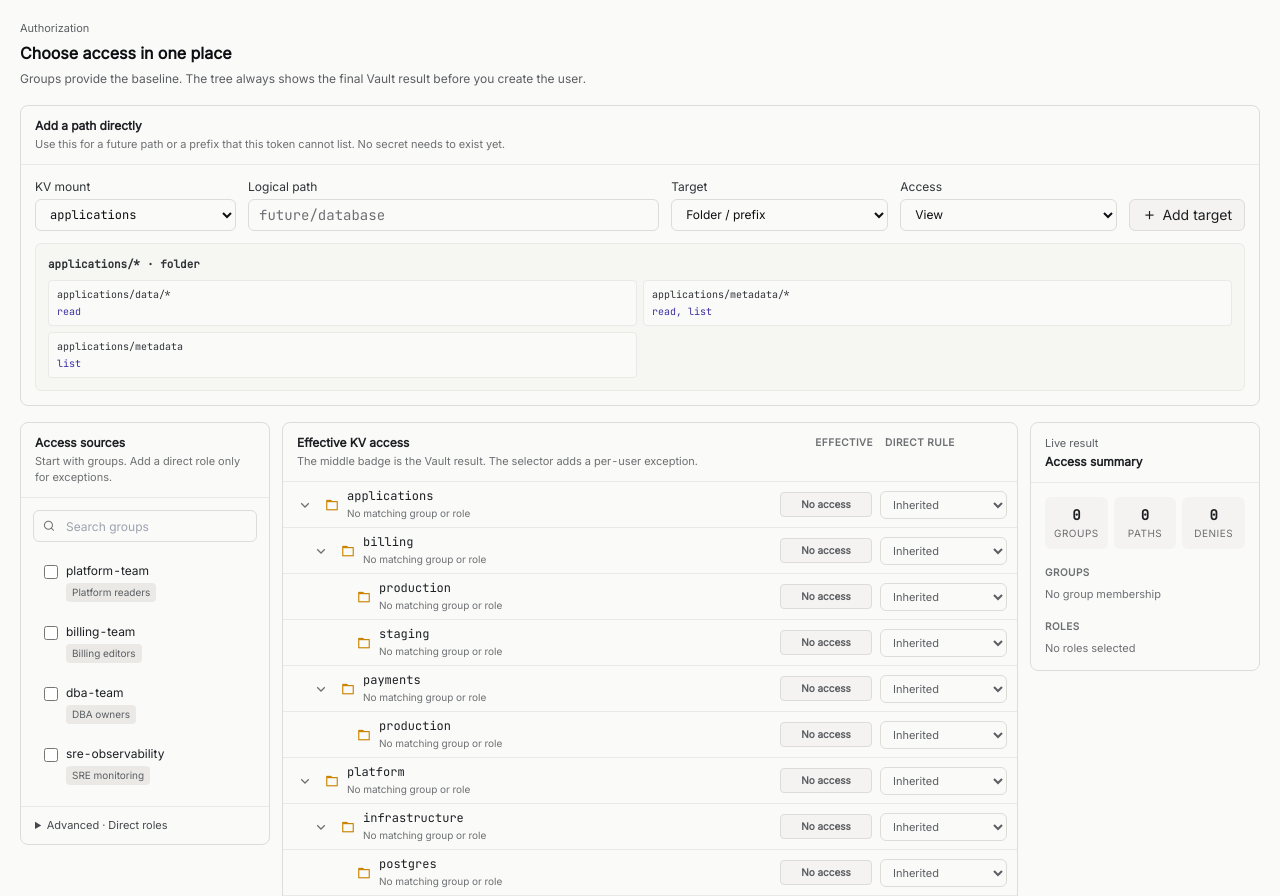
Test: AccessScreen › keeps explicit Deny separate and clearing it returns to Inherited
Select "Deny" in the dropdown named "Direct access for applications/billing" at [944, 550], box x1=880 y1=536 x2=1007 y2=564
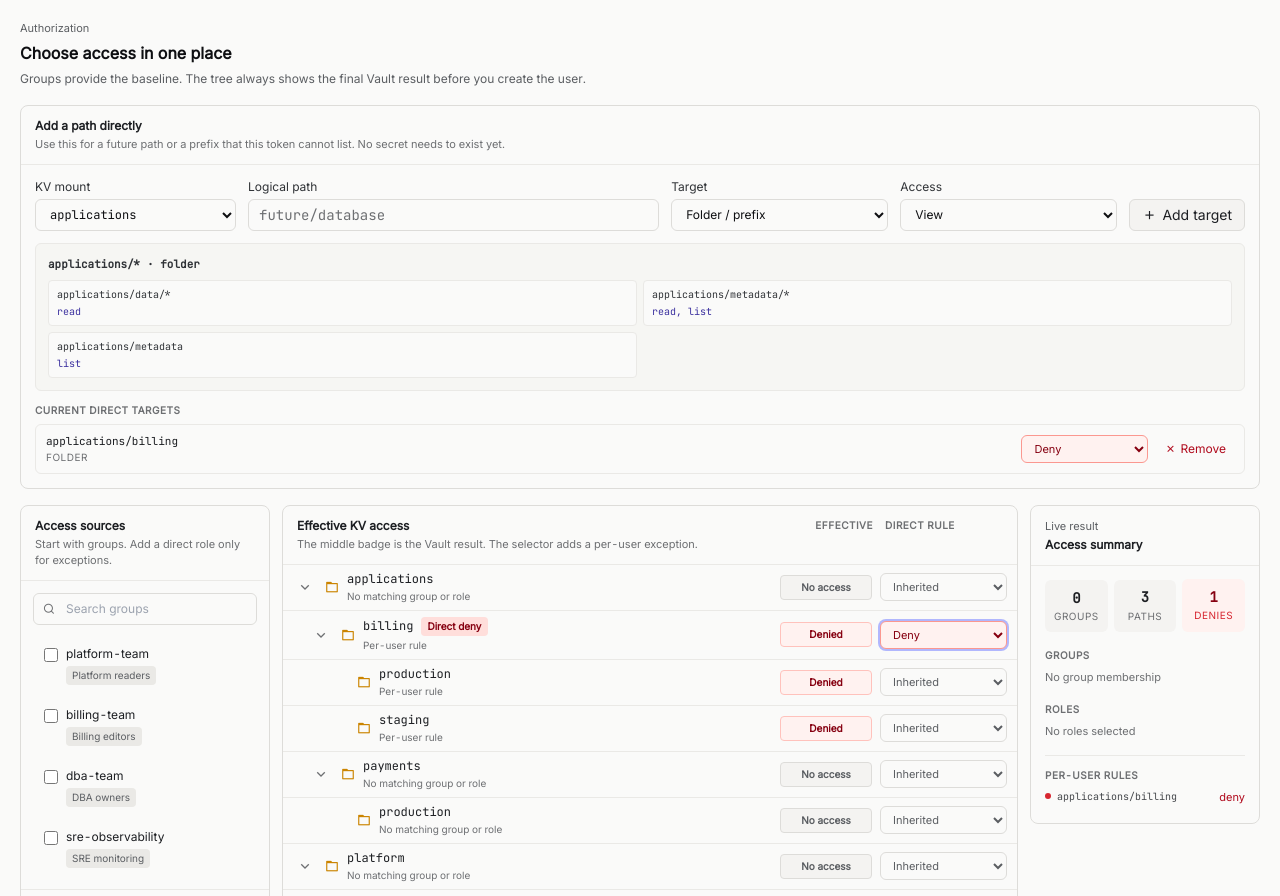
expect the text with test id "effective-level-applications:billing" reads "Denied": met, box x1=809 y1=628 x2=843 y2=640
expect the text "Direct deny" is shown: met, box x1=421 y1=616 x2=488 y2=636
Select "Inherited" in the dropdown named "Direct access for applications/billing" in the row of "Direct deny" at [944, 634], box x1=880 y1=620 x2=1007 y2=648
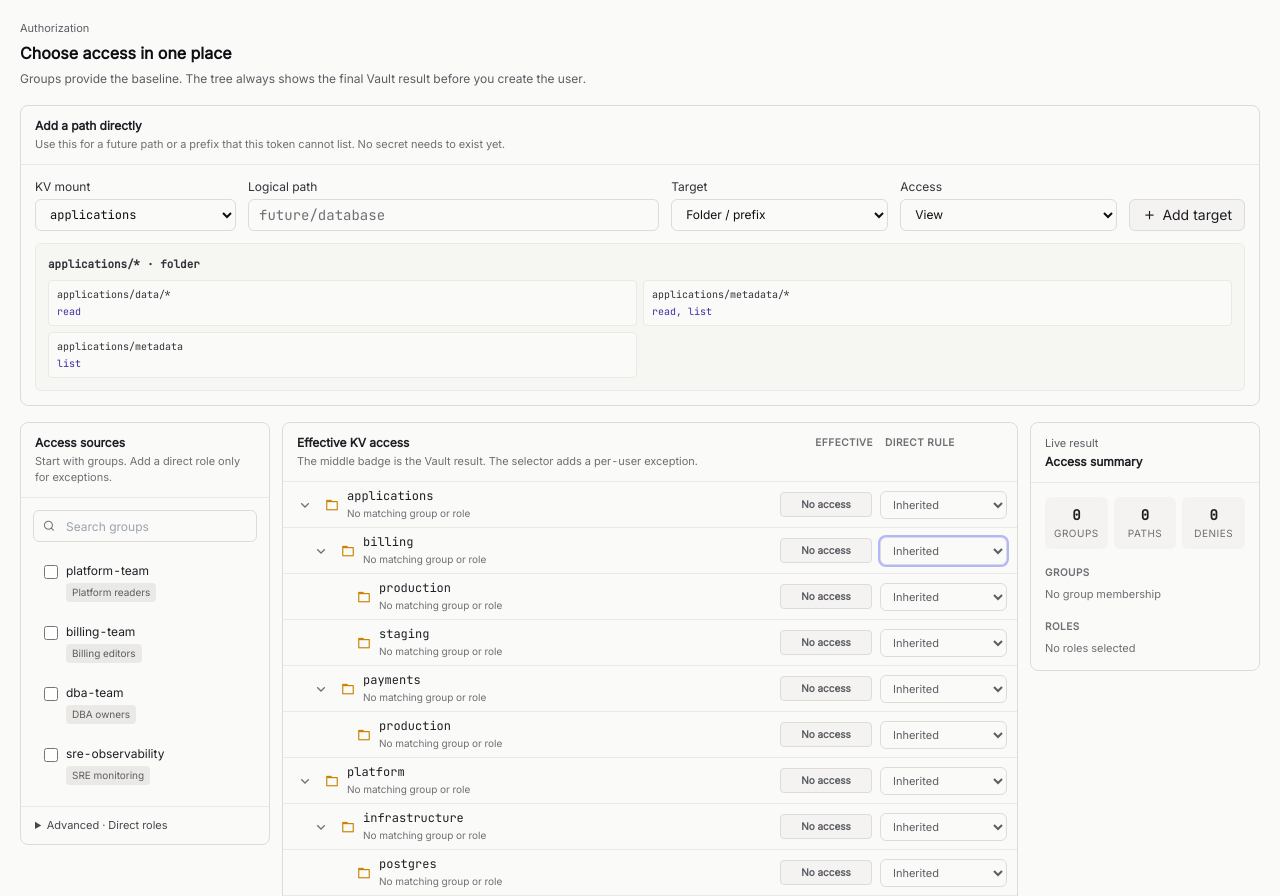
expect the text with test id "effective-level-applications:billing" reads "No access": met, box x1=801 y1=544 x2=851 y2=556
expect the text "Direct deny" is gone: met
